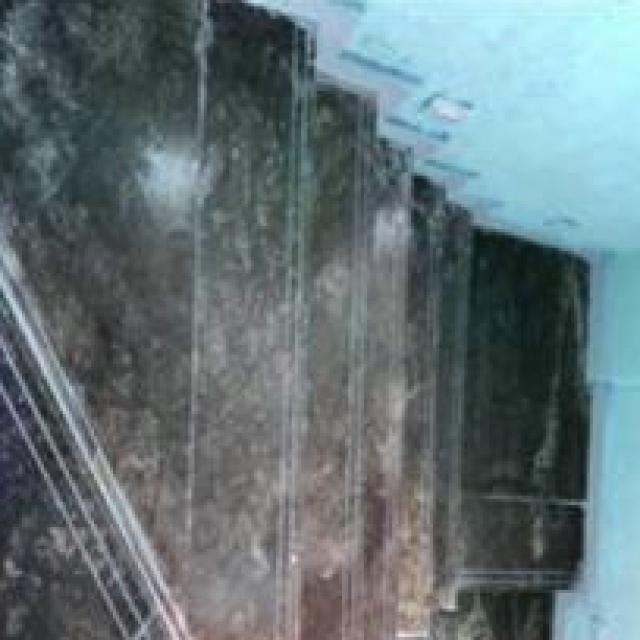downstair: (161, 23, 459, 528)
